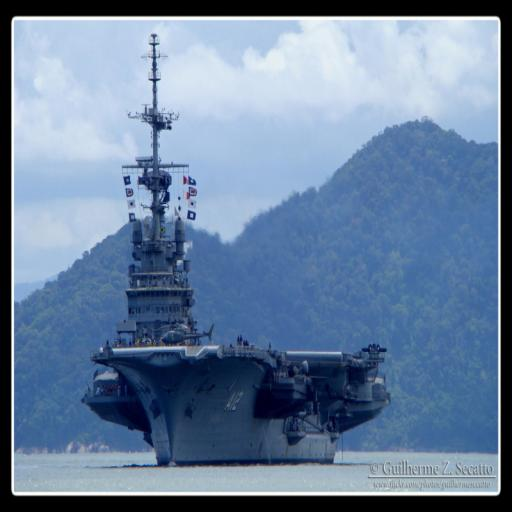Portanaves: (80, 28, 396, 470)
